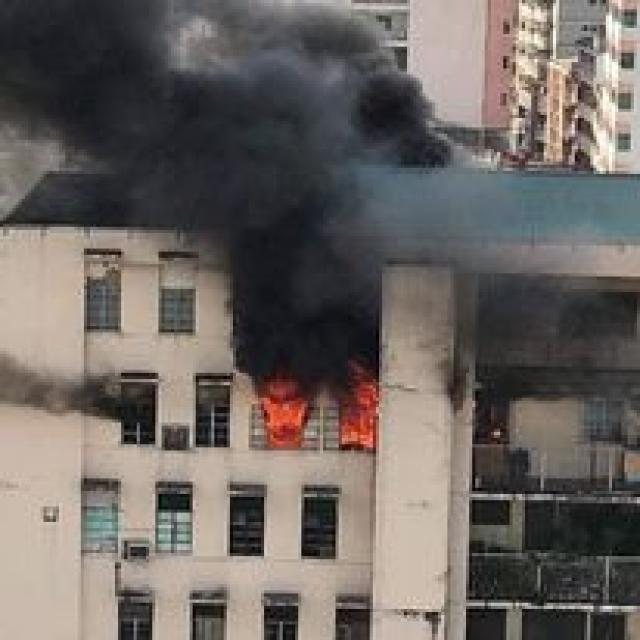Fire: (270, 370, 304, 454), (340, 367, 370, 450)
Smoke: (0, 1, 433, 181), (234, 164, 364, 386)
